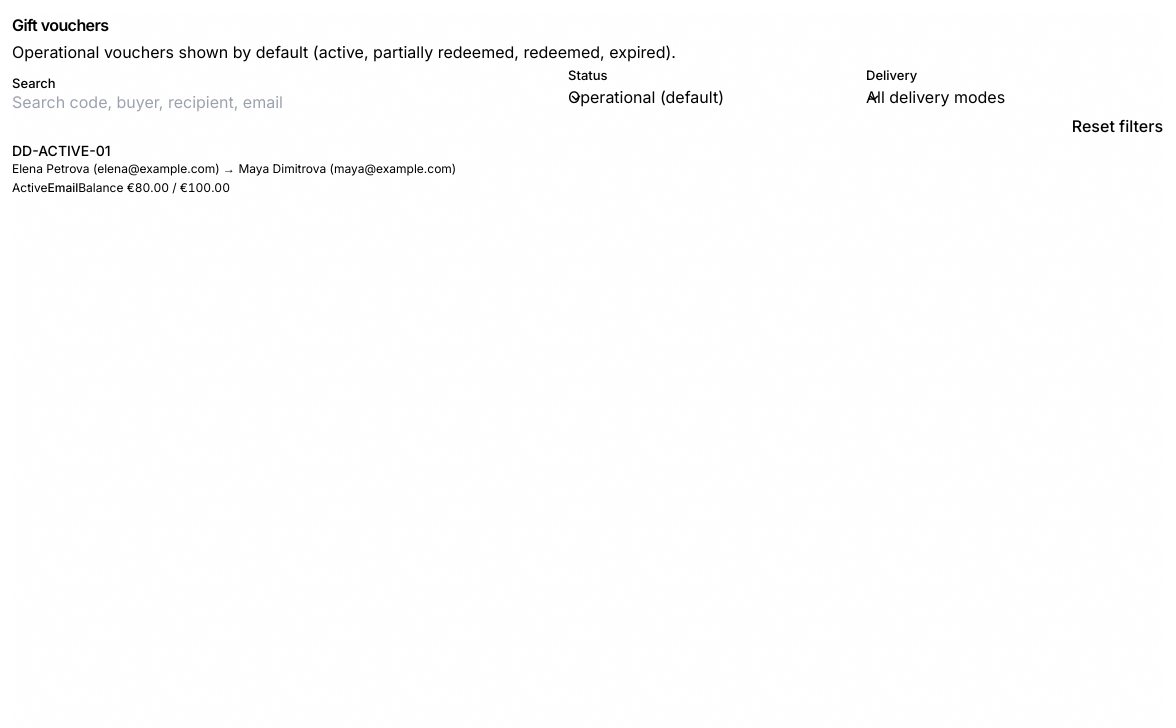
OpsGiftVoucherDetail migration › lands from the collection and returns via the canonical back control
Step 1. Click the link "DD-ACTIVE-01" → (234, 168), box [12,142,456,195]
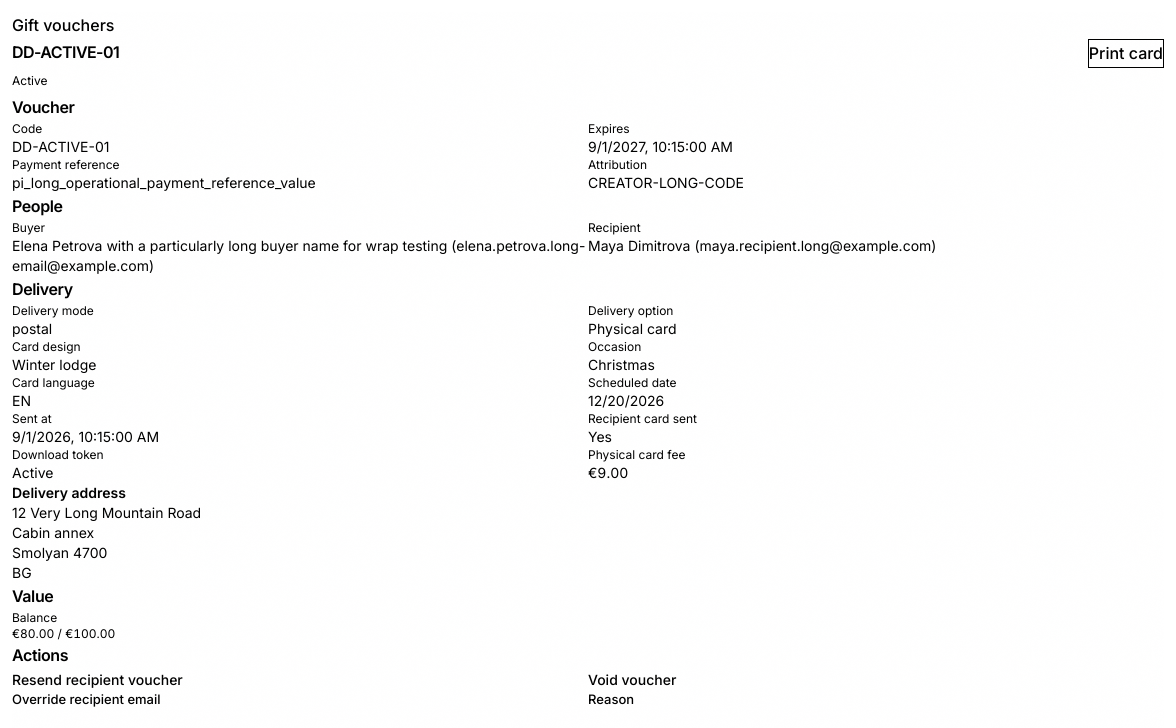
Now the heading "DD-ACTIVE-01" is shown, box [12,39,119,66]
Step 2. Click the link "Gift vouchers" → (63, 26), box [12,12,114,39]
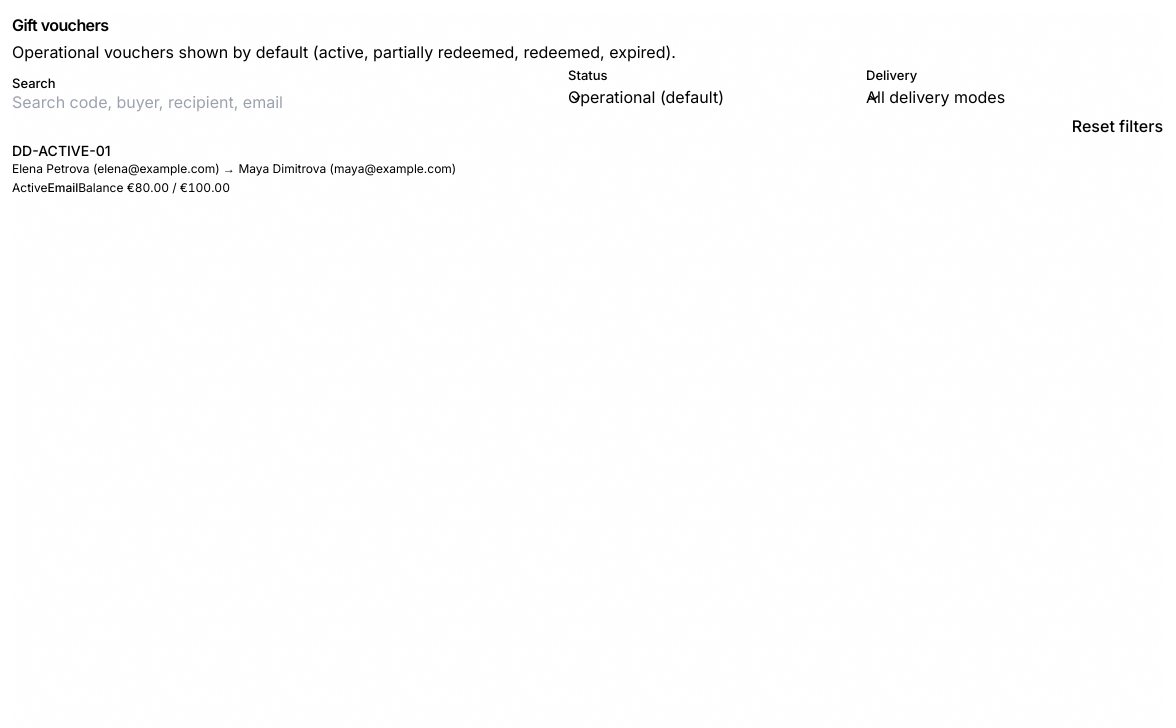
Now the heading "Gift vouchers" is shown, box [12,15,108,35]
